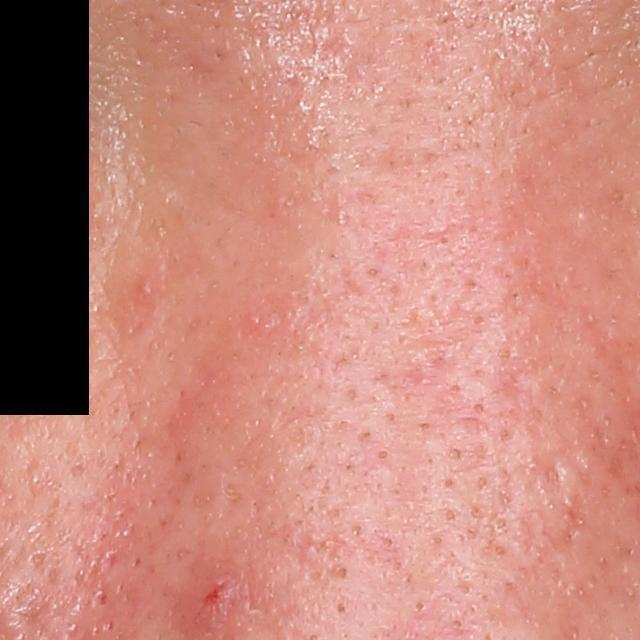comedo: (332, 563, 350, 583), (446, 445, 465, 462), (374, 447, 392, 463), (347, 522, 363, 539), (441, 507, 456, 525), (473, 400, 487, 415), (336, 600, 348, 617), (416, 420, 432, 432), (475, 475, 487, 489)
